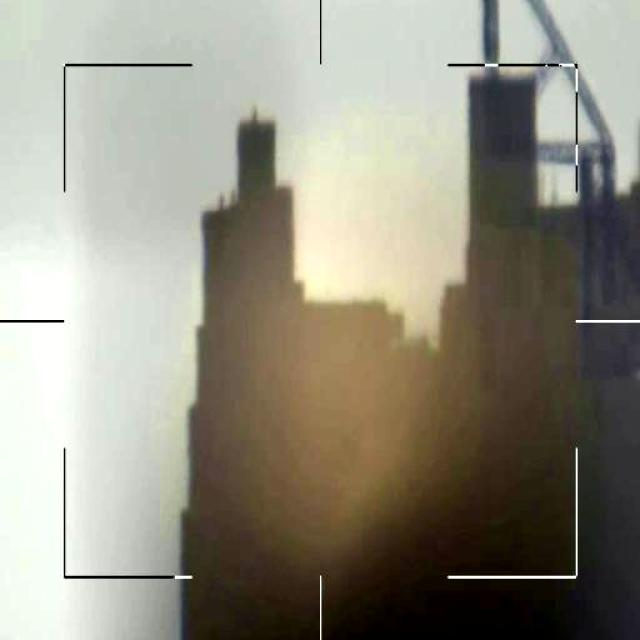bird: (334, 409, 390, 491)
